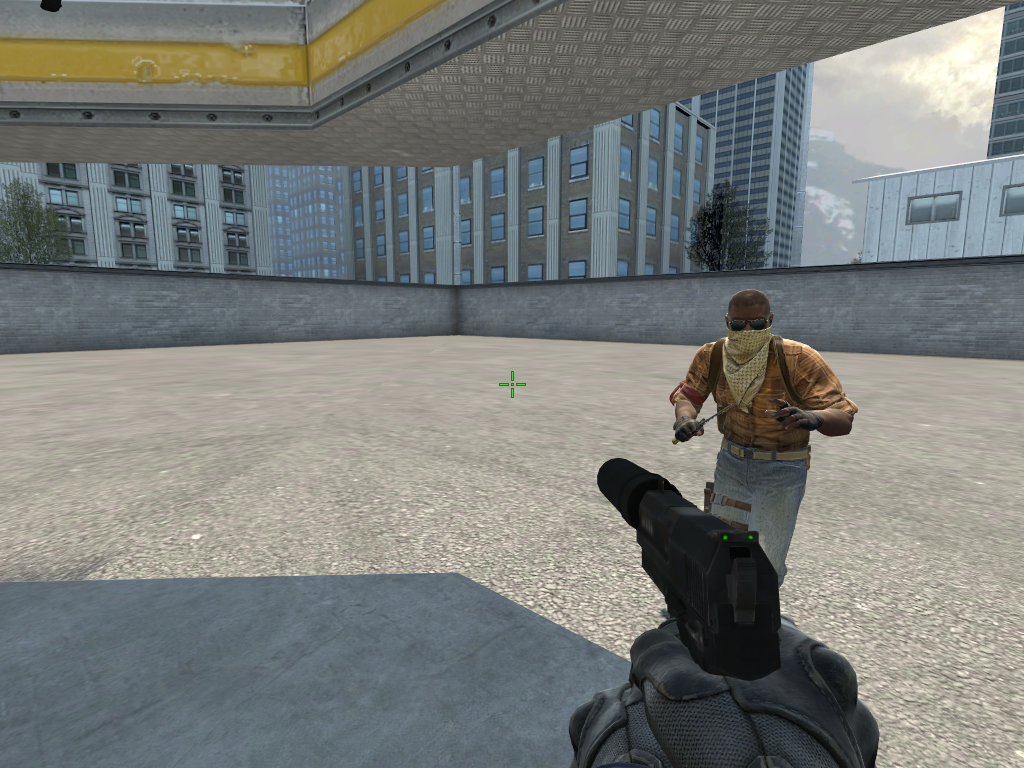tr head: (722, 285, 777, 366)
